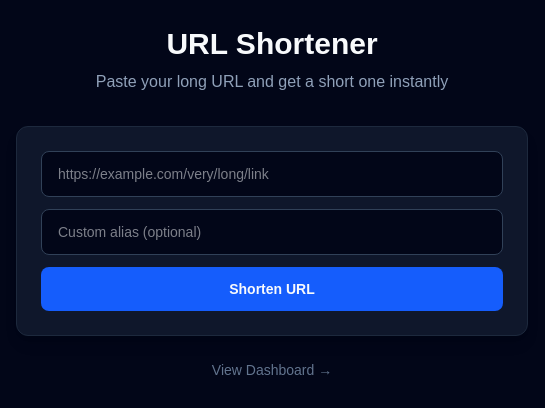
Home page form › shows a validation error for invalid input
Type "not a url" into the field with placeholder "https://example.com/very/long/link".
click(272, 174); type("not a url")  # box [41,151,503,197]
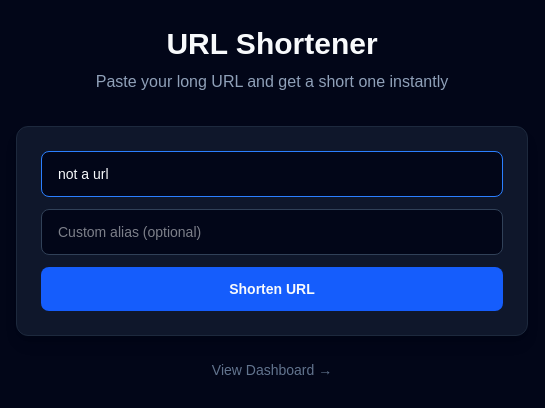
Click the button "Shorten URL".
click(272, 289)  # box [41,267,503,311]
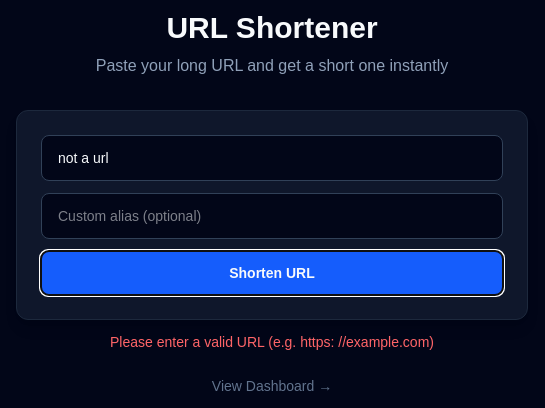
Now the text "Please enter a valid URL (e.g. https: //example.com)" is shown, box [110,334,434,350]
